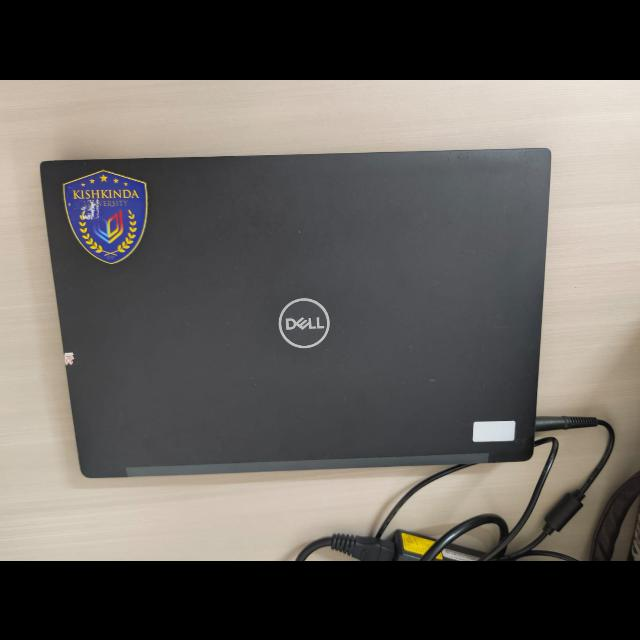laptop: (30, 137, 566, 479)
